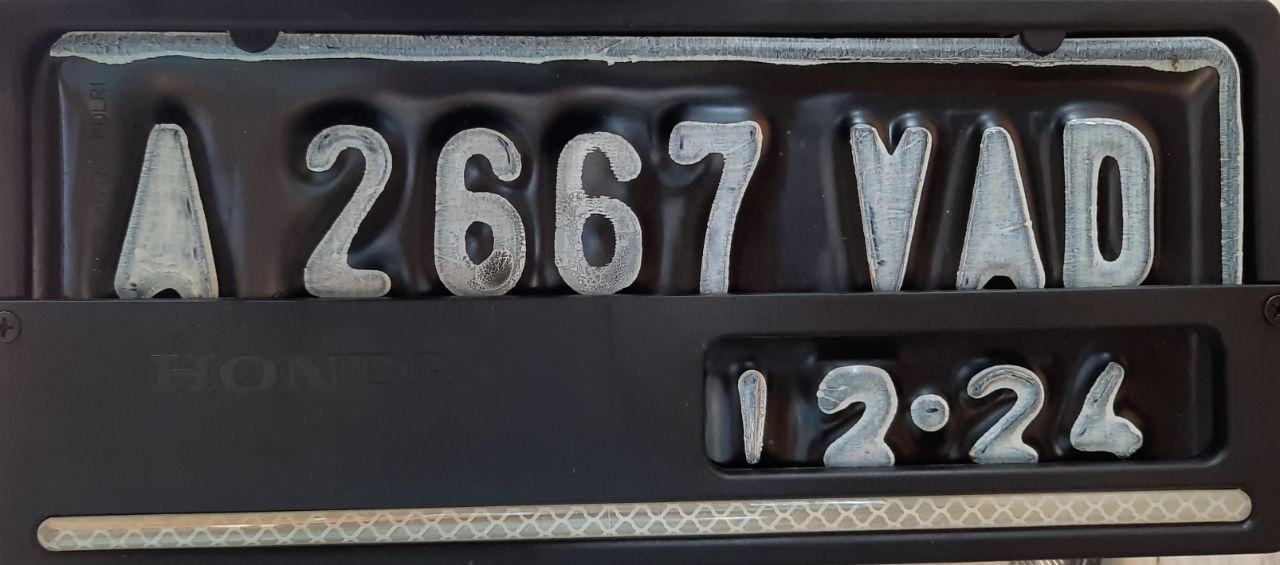2: (280, 117, 406, 300)
6: (412, 111, 542, 294), (542, 124, 654, 292)
7: (654, 108, 772, 294)
A: (84, 106, 237, 300), (946, 113, 1053, 291)
D: (1046, 105, 1176, 292)
V: (837, 112, 941, 288)
